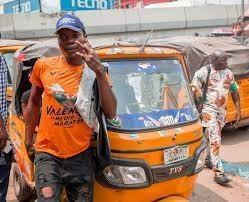keke: (7, 41, 207, 202)
